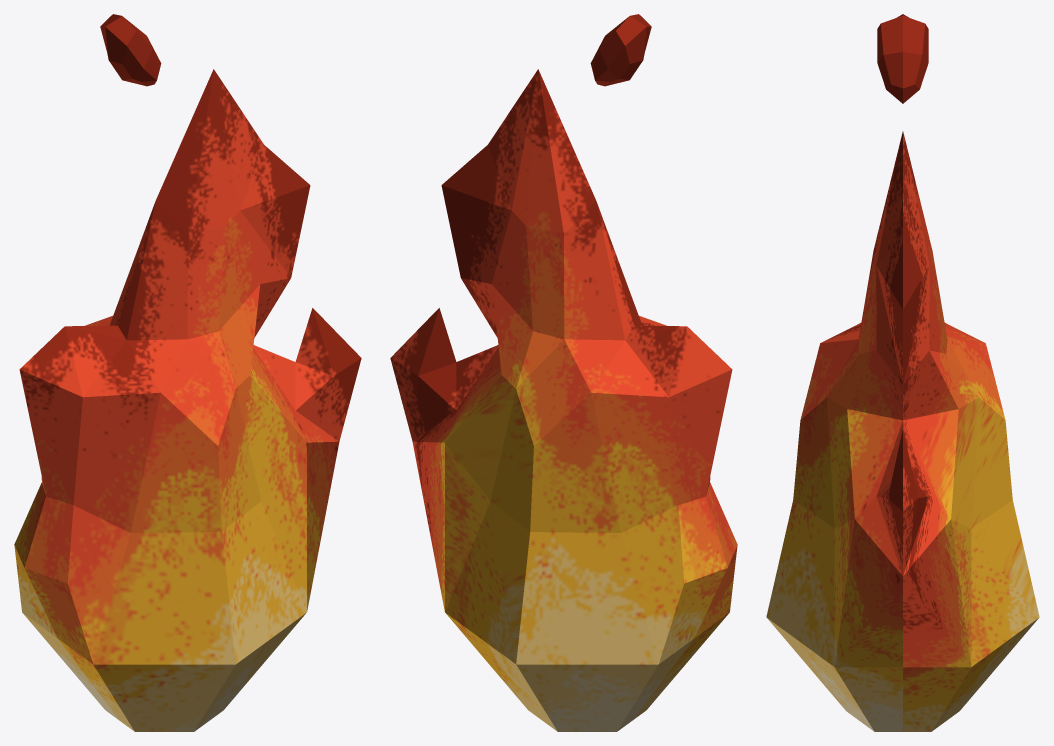
File: Flame2.fbx
The picture shows the model from 3 angles, left to right: view 1: azimuth 30°, elevation 25°; view 2: azimuth 150°, elevation 25°; view 3: azimuth 270°, elevation 25°; orthographic projection. The views are drawn at different scales.
Visible parts, largest first — view 1: Flame 2; view 2: Flame 2; view 3: Flame 2.
Part boxes in pixels (box(x1,y1,x2,y2)): Flame 2: box(14, 14, 361, 731); Flame 2: box(390, 14, 737, 731); Flame 2: box(766, 14, 1039, 731).
Bounding box in the file's own units: 22.84 × 44.96 × 16.48.
1 material, 1 textured.
